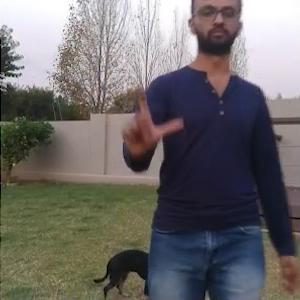land_hand: (120, 81, 185, 157)
